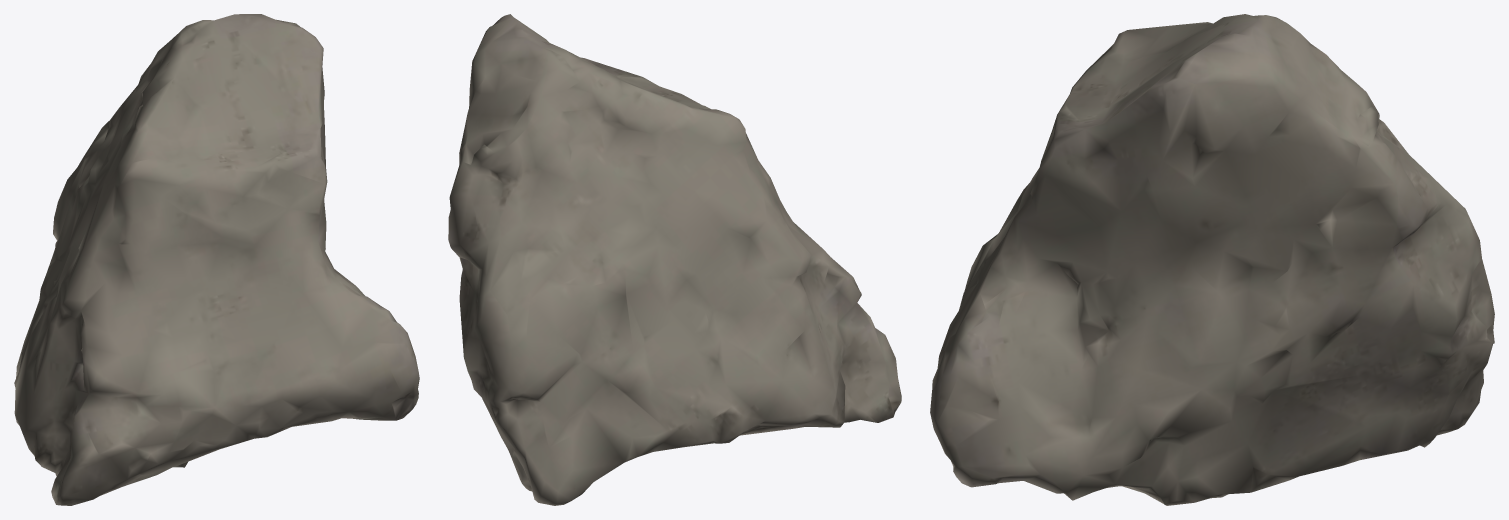
File: moon_rock_05.glb
3 views of the same model, side by side, from view 1: azimuth 30°, elevation 25°; view 2: azimuth 150°, elevation 25°; view 3: azimuth 270°, elevation 25° (orthographic). The views are drawn at different scales.
Visible parts, largest first — view 1: moon_rock_05_LOD0; view 2: moon_rock_05_LOD0; view 3: moon_rock_05_LOD0.
Boxes of the visible parts, box(x1,y1,x2,y2) form: moon_rock_05_LOD0: box(14, 14, 419, 505); moon_rock_05_LOD0: box(448, 14, 901, 505); moon_rock_05_LOD0: box(930, 14, 1494, 505).
Bounding box in the file's own units: 0.0717 × 0.0734 × 0.0811.
1 material, 1 textured.
